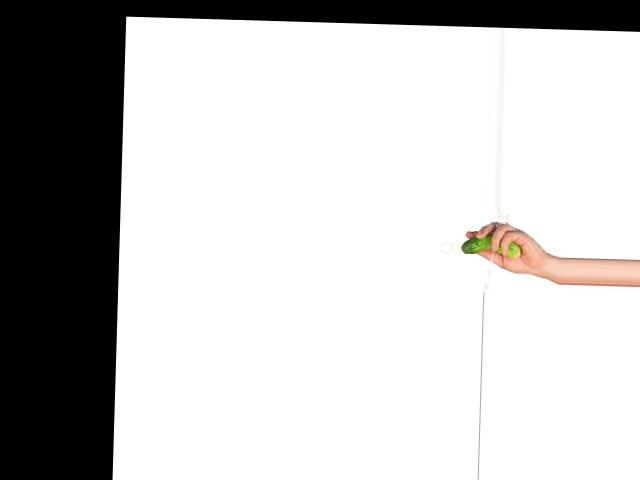cucumber: (461, 234, 521, 257)
